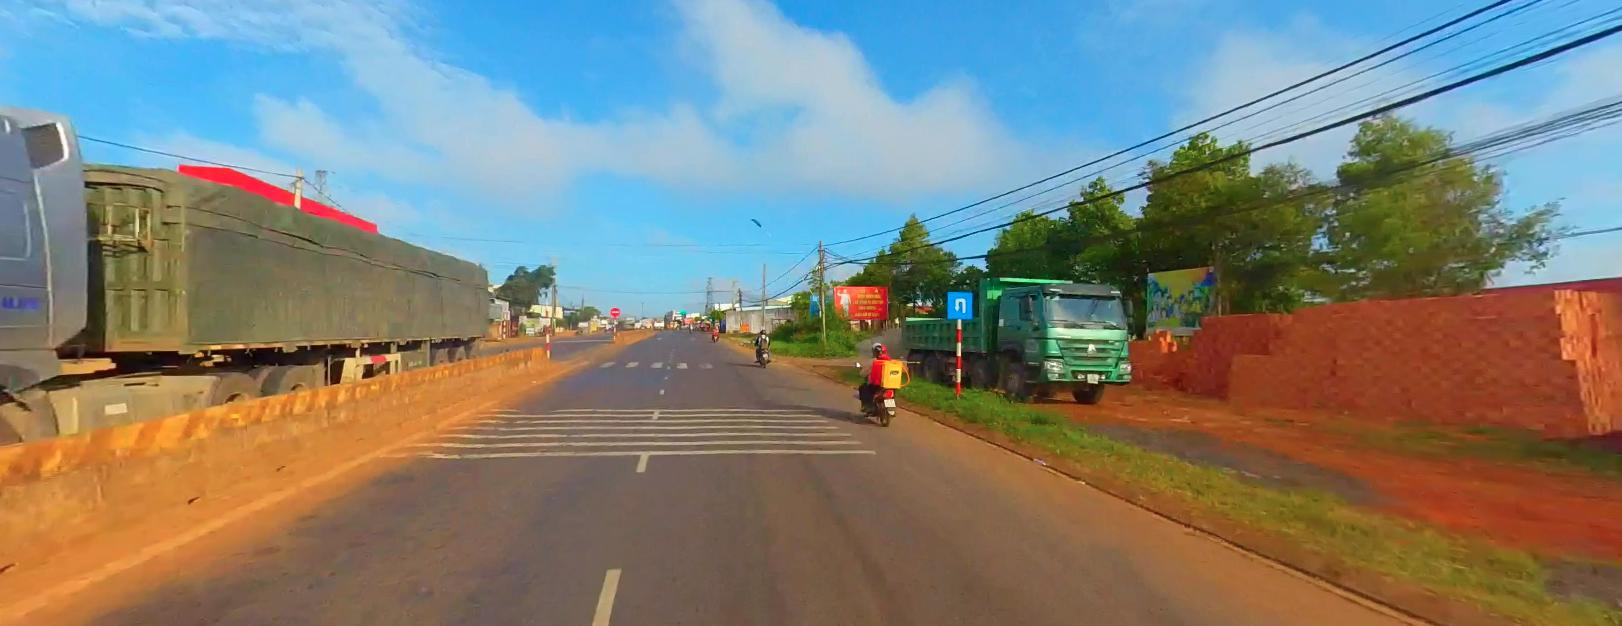Cam nguoc chieu: (609, 306, 619, 315)
